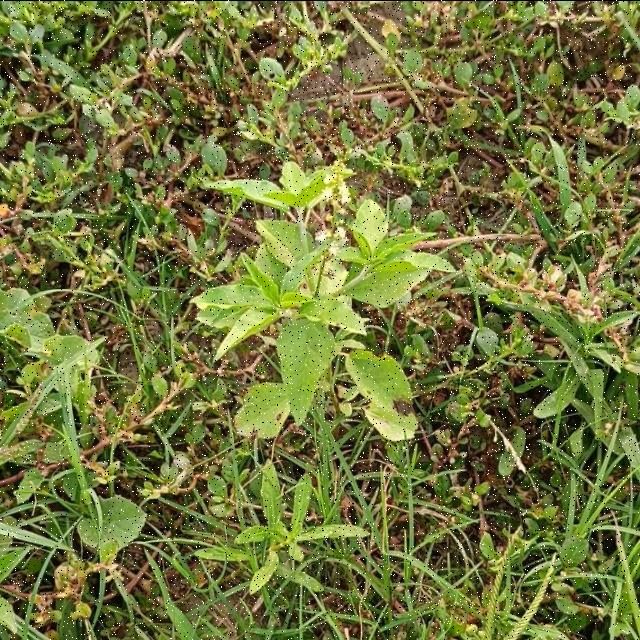weed: (194, 161, 471, 441), (0, 287, 99, 449), (240, 485, 360, 587), (77, 491, 144, 563)
